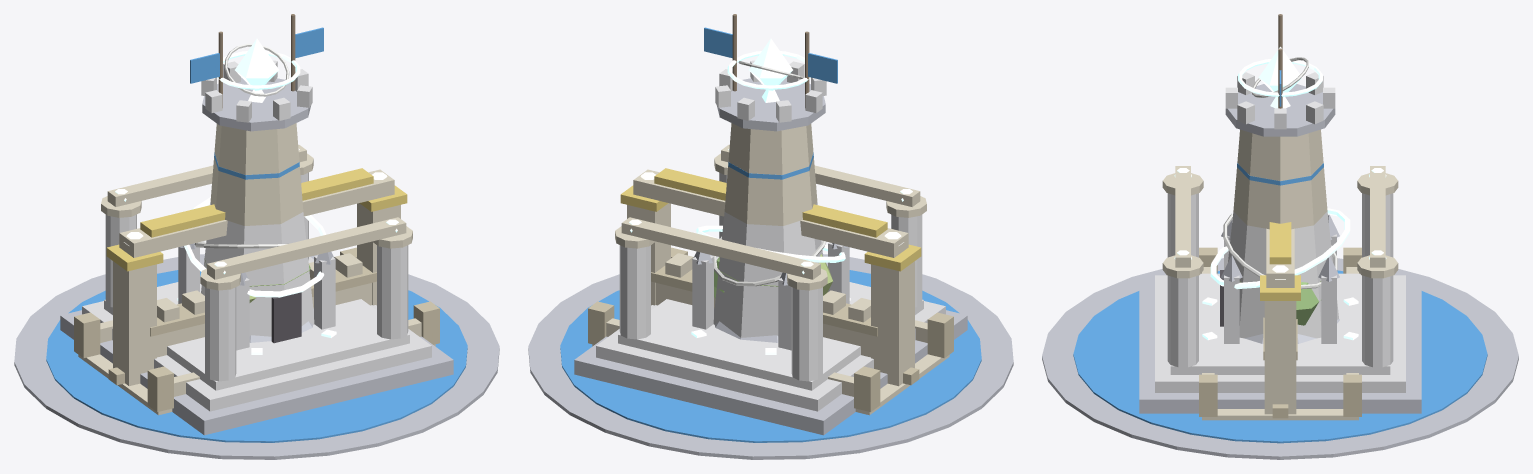
File: moba_kit2.glb
3 views of the same model, side by side, from view 1: azimuth 30°, elevation 25°; view 2: azimuth 150°, elevation 25°; view 3: azimuth 270°, elevation 25° (orthographic). The views are drawn at different scales.
Parts seen in each view (by area): view 1: mv2_core_blue, mv2_tower_blue, mv2_arch_gold, mv2_bridge, mv2_wall_seg, Torus.004; view 2: mv2_core_blue, mv2_tower_blue, mv2_arch_gold, mv2_bridge, mv2_wall_seg, Torus.004, Torus.005; view 3: mv2_core_blue, mv2_tower_blue, mv2_arch_gold, mv2_bridge, Torus.004, mv2_tree_round, Torus.005.
Boxes of the visible parts, x1,y1,x2,y2 form: mv2_core_blue: (14, 144, 499, 459); mv2_tower_blue: (178, 14, 335, 350); mv2_arch_gold: (106, 168, 407, 386); mv2_bridge: (74, 247, 439, 415); mv2_wall_seg: (150, 253, 376, 357); Torus.004: (184, 197, 326, 297); mv2_core_blue: (528, 144, 1013, 459); mv2_tower_blue: (692, 14, 849, 350); mv2_arch_gold: (620, 168, 921, 386); mv2_bridge: (588, 247, 953, 415); mv2_wall_seg: (651, 253, 877, 357); Torus.004: (696, 225, 845, 262); Torus.005: (712, 236, 825, 286); mv2_core_blue: (1042, 166, 1518, 459); mv2_tower_blue: (1220, 14, 1339, 343); mv2_arch_gold: (1260, 222, 1300, 414); mv2_bridge: (1199, 247, 1361, 420); Torus.004: (1210, 208, 1350, 289); mv2_tree_round: (1240, 281, 1321, 325); Torus.005: (1223, 214, 1337, 289).
Bounding box in the file's own units: 15.2 × 11.7 × 15.2.
